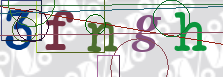3: (4, 8, 32, 50)
f: (45, 9, 75, 50)
g: (131, 14, 162, 53)
h: (173, 11, 208, 52)
n: (87, 21, 119, 53)
